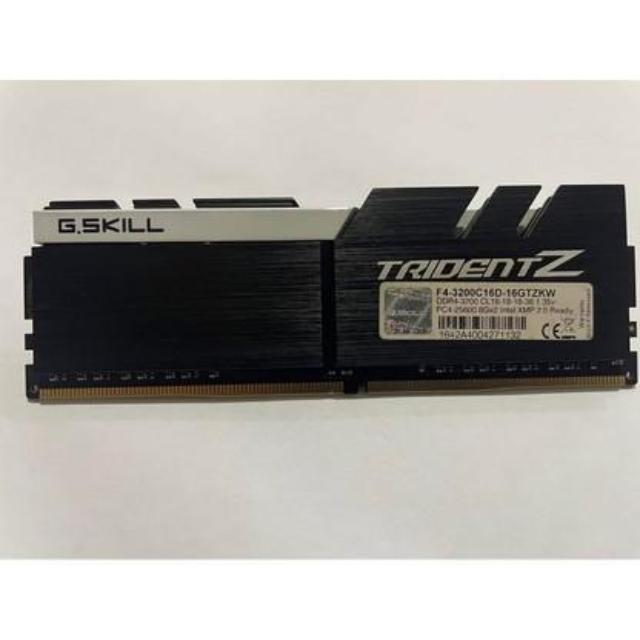RAM: (15, 184, 640, 404)
